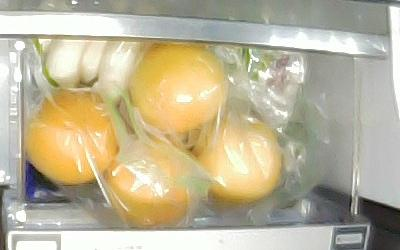grapefruit_vinyl: (25, 90, 121, 181), (188, 114, 284, 201), (129, 46, 224, 133), (104, 142, 198, 225)
